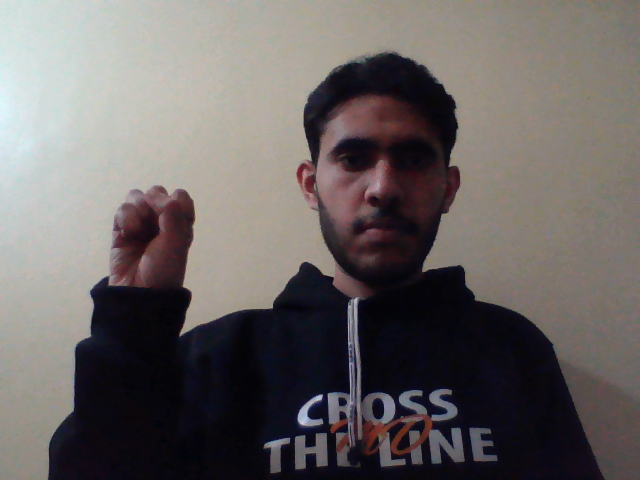S: (101, 180, 198, 306)
